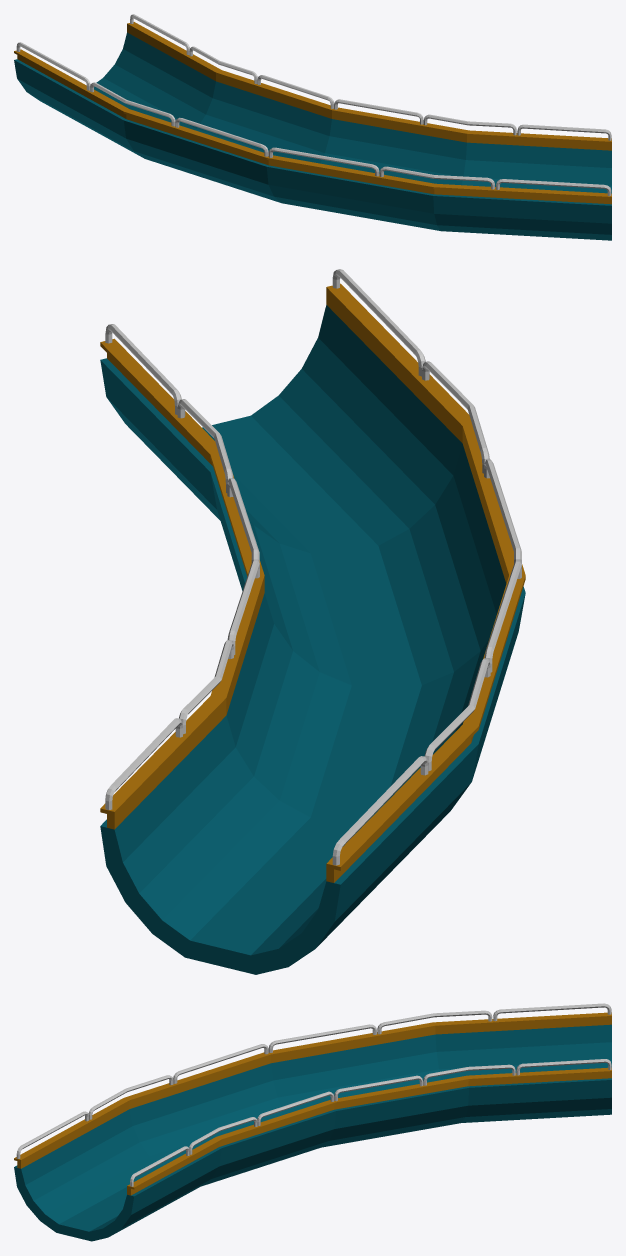
Rendered from halfpipe-curveLeft-60_l.FBX.
3 views of the same model, one above another, from view 1: azimuth 30°, elevation 25°; view 2: azimuth 150°, elevation 25°; view 3: azimuth 270°, elevation 25° (orthographic). The views are drawn at different scales.
Parts seen in each view (by area): view 1: halfpipe-curveLeft-60_l, wall_r, wall_l; view 2: halfpipe-curveLeft-60_l, wall_r, wall_l; view 3: halfpipe-curveLeft-60_l, wall_r, wall_l.
Boxes of the visible parts, x1,y1,x2,y2 form: halfpipe-curveLeft-60_l: [14, 32, 611, 240]; wall_r: [14, 42, 611, 204]; wall_l: [127, 14, 611, 150]; halfpipe-curveLeft-60_l: [100, 305, 525, 974]; wall_r: [326, 269, 525, 882]; wall_l: [100, 324, 264, 829]; halfpipe-curveLeft-60_l: [14, 1024, 611, 1241]; wall_r: [14, 1003, 611, 1168]; wall_l: [127, 1059, 611, 1195].
Size of what is drawn, in the model's own units: 383 by 552 by 75.73.
